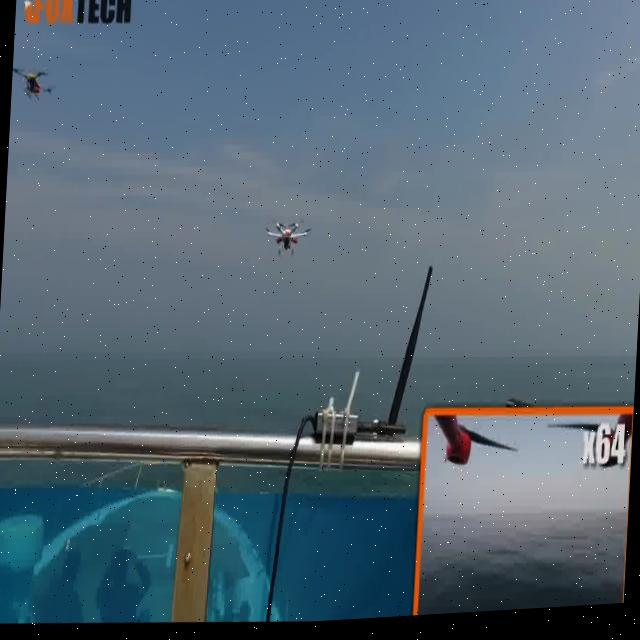drone: (257, 214, 321, 266)
